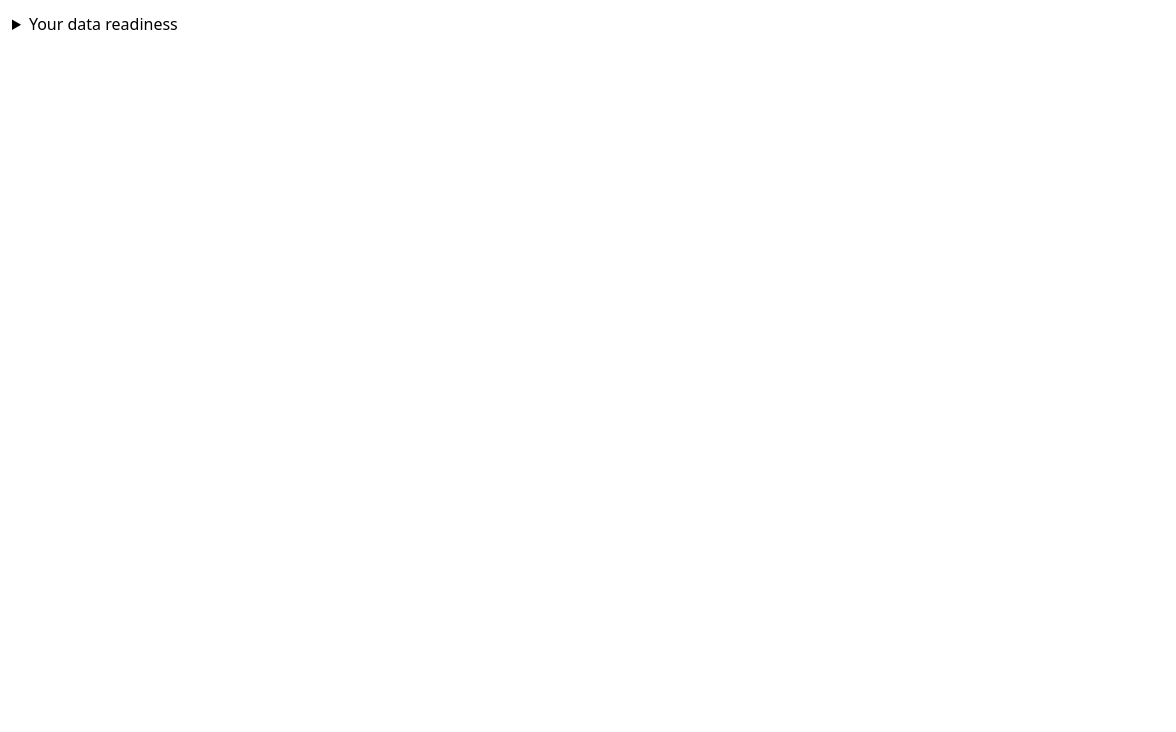
Test: readiness is an explicit read-only request, with missingness and no invented labels
Click the heading "Your data readiness" at (103, 24), box 29,13 -> 178,35
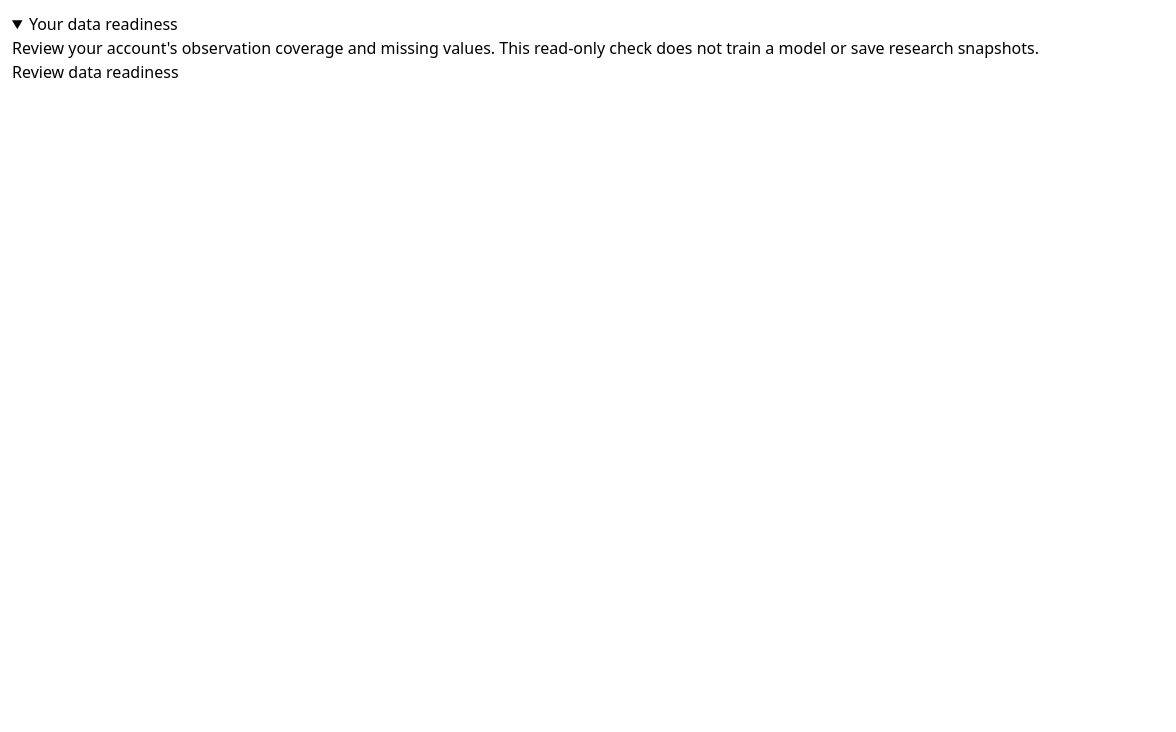
Click the button "Review data readiness" at (95, 72), box 12,60 -> 179,84
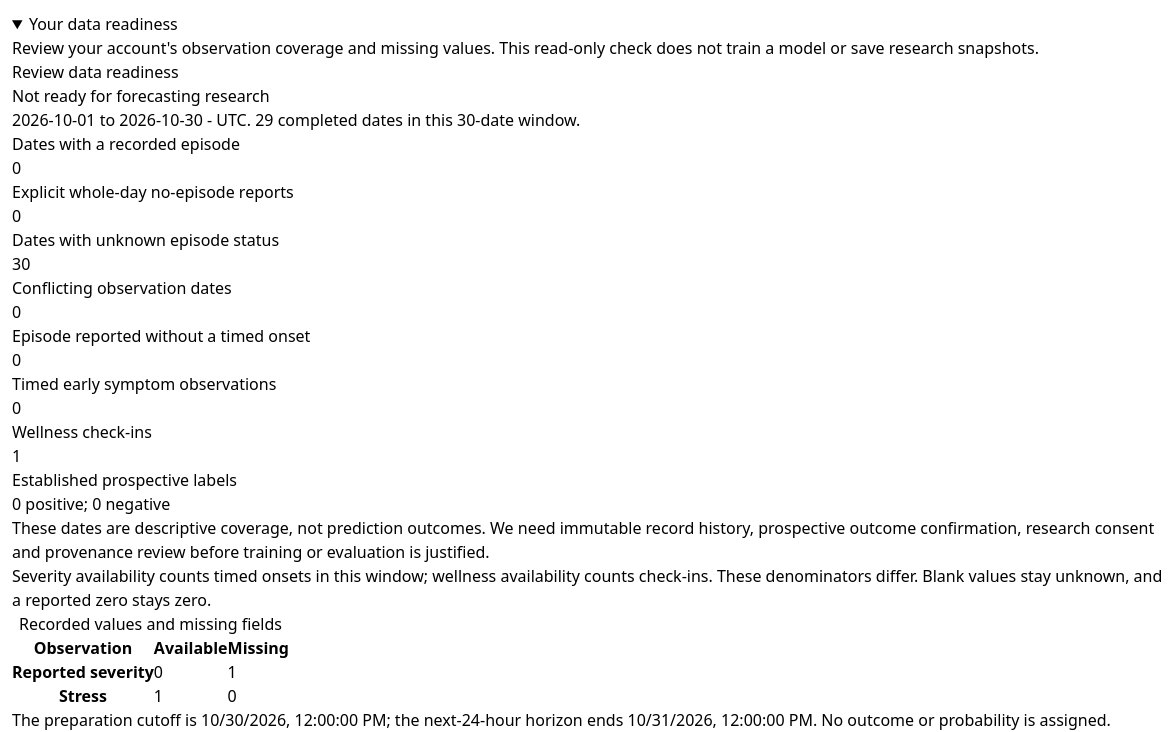
Now the heading "Not ready for forecasting research" is shown, box 12,85 -> 270,107
Now the text "0 positive; 0 negative" is shown, box 12,493 -> 170,515
Now the table "Recorded values and missing fields" is shown, box 12,612 -> 289,708
